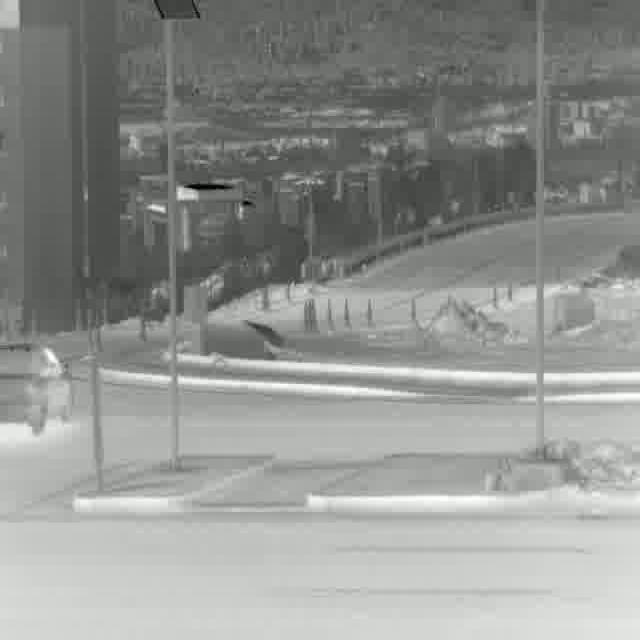Car: (0, 336, 72, 436)
